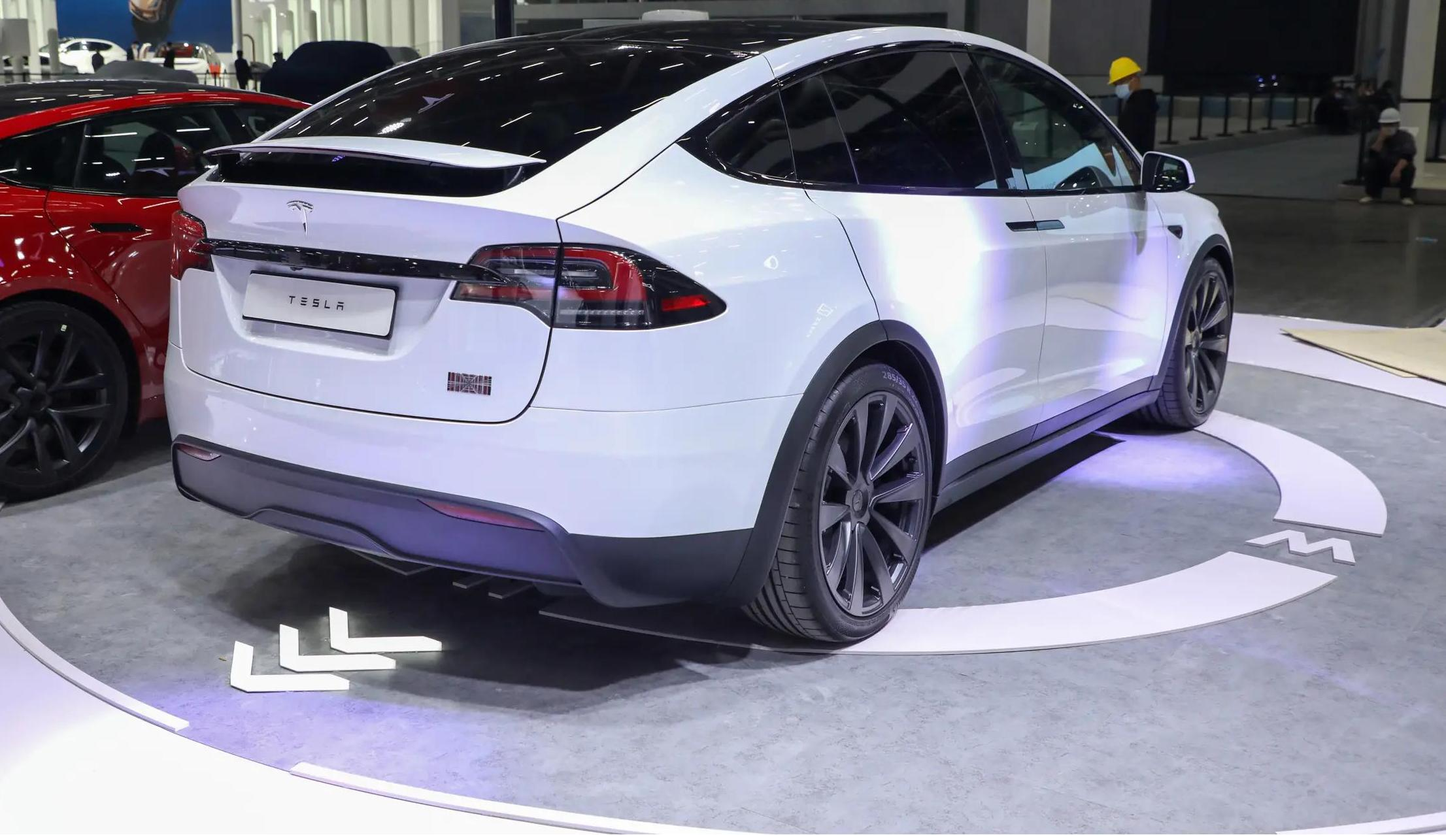Tesla: (286, 200, 313, 240)
